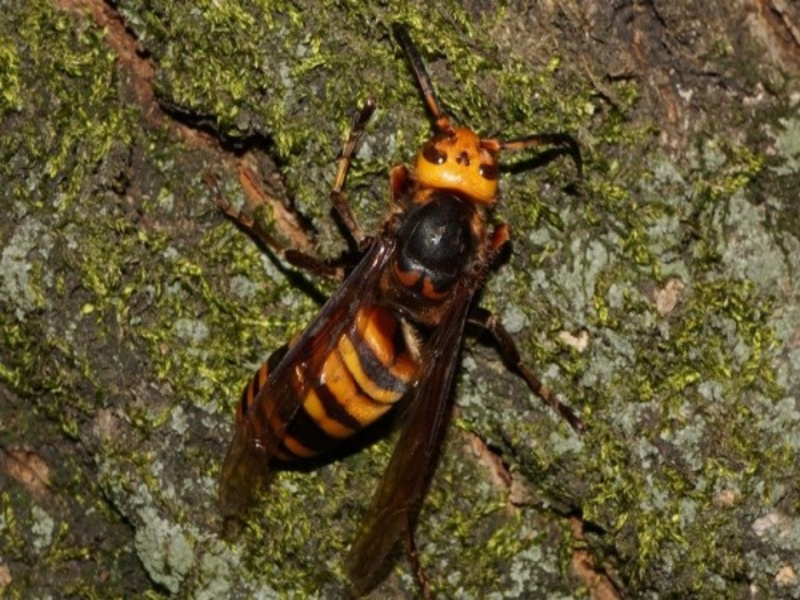asian_giant_hornet: (224, 24, 585, 496)
